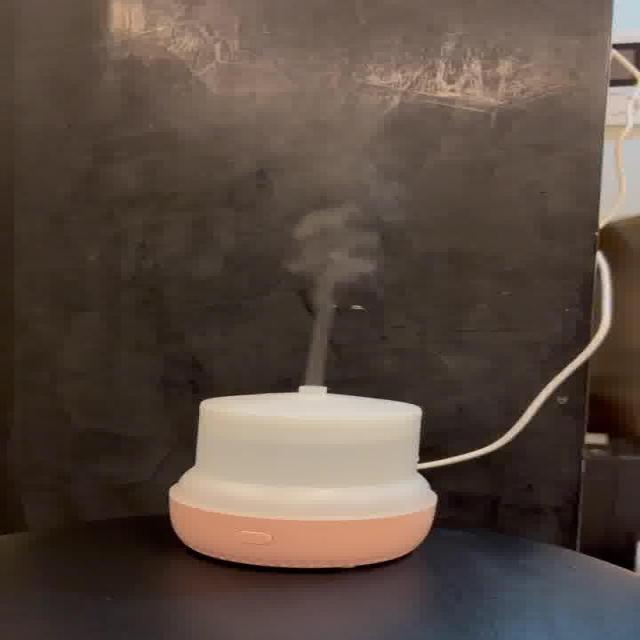fire: (270, 152, 396, 386)
